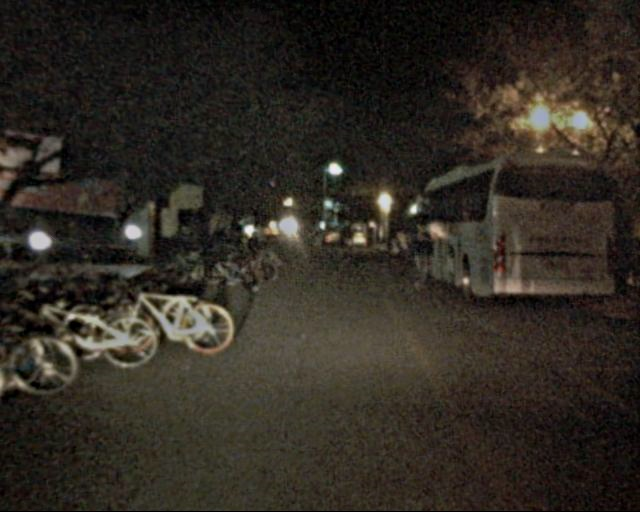person: (408, 221, 440, 298), (248, 217, 270, 264), (344, 226, 354, 251)
